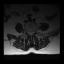CCS_normal: (30, 29, 32, 37)
LFS_normal: (33, 29, 35, 34)
LLS_normal: (31, 29, 33, 36)
RFS_normal: (26, 29, 28, 35)
RLS_normal: (28, 29, 30, 36)
